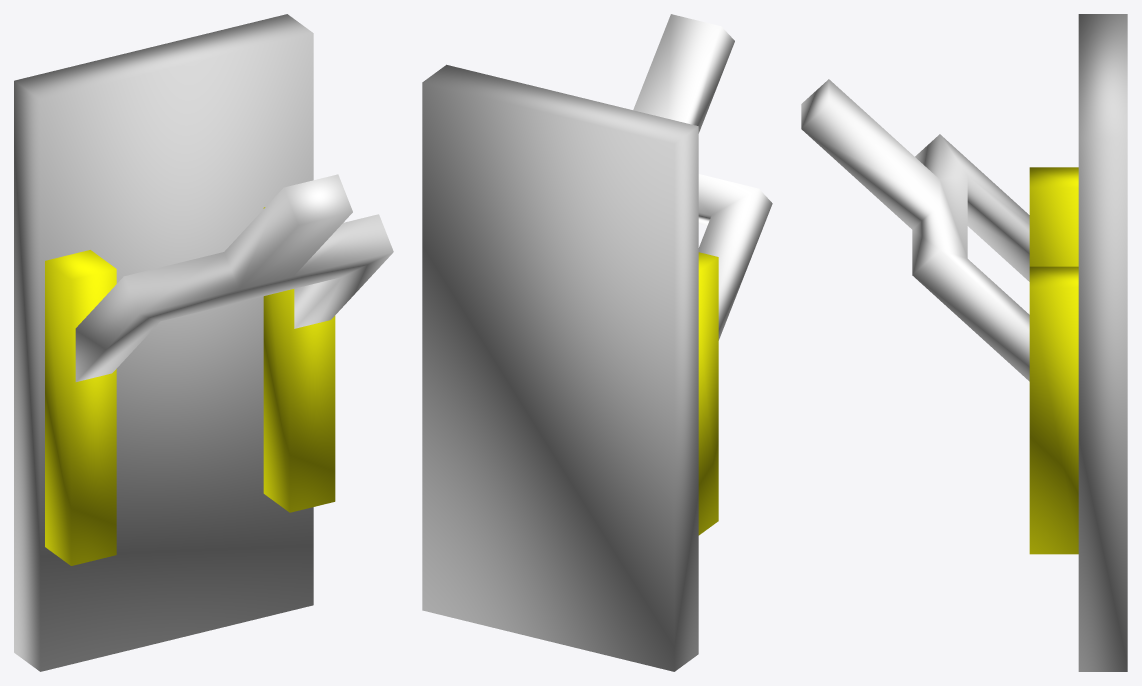
The model's file is INVISIBLE_ZCTRIGGER.glb.
The picture shows the model from 3 angles, left to right: view 1: azimuth 30°, elevation 25°; view 2: azimuth 150°, elevation 25°; view 3: azimuth 270°, elevation 25°; orthographic projection. The views are drawn at different scales.
Parts seen in each view (by area): view 1: Mesh; view 2: Mesh; view 3: Mesh.
Boxes of the visible parts, left/top/right/bottom form: Mesh: left=14, top=14, right=393, bottom=671; Mesh: left=422, top=14, right=772, bottom=671; Mesh: left=801, top=14, right=1127, bottom=671.
Size of the model in its own units: 0.3 by 0.6 by 0.3328.
